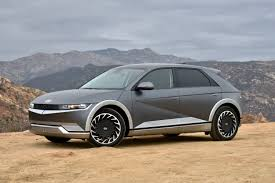Honda Ioniq: (19, 62, 245, 153)
